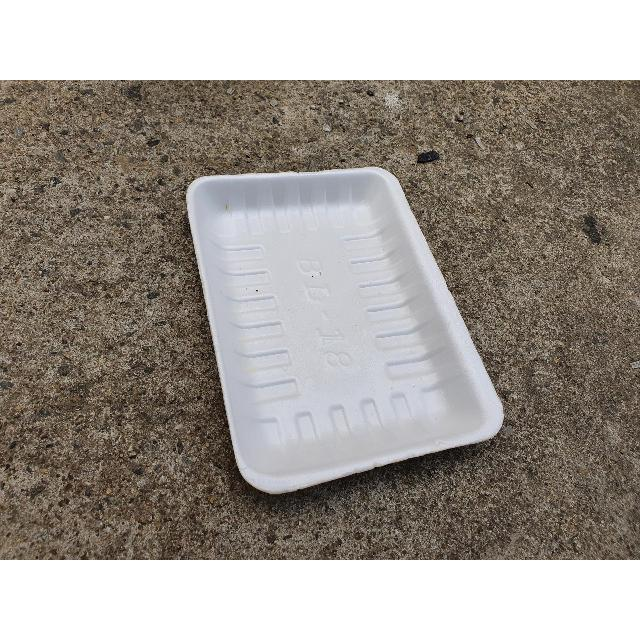Plastico descartable: (186, 167, 503, 496)
